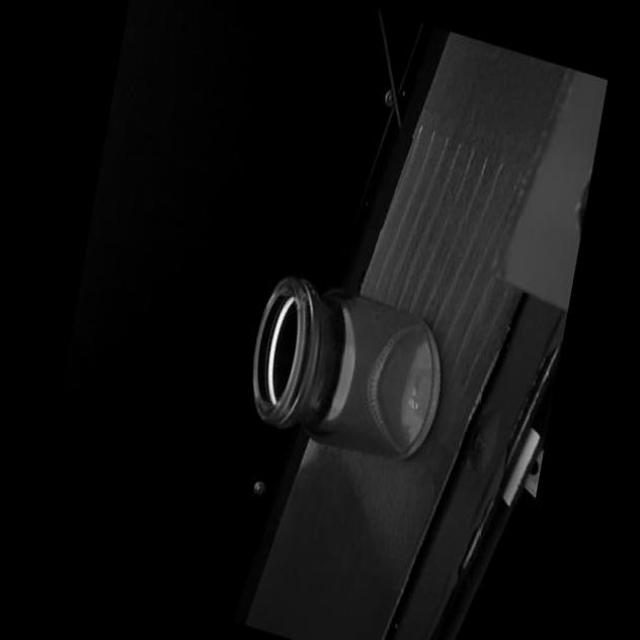defect: (294, 286, 310, 311), (310, 284, 317, 294)
glass: (241, 261, 455, 482)
